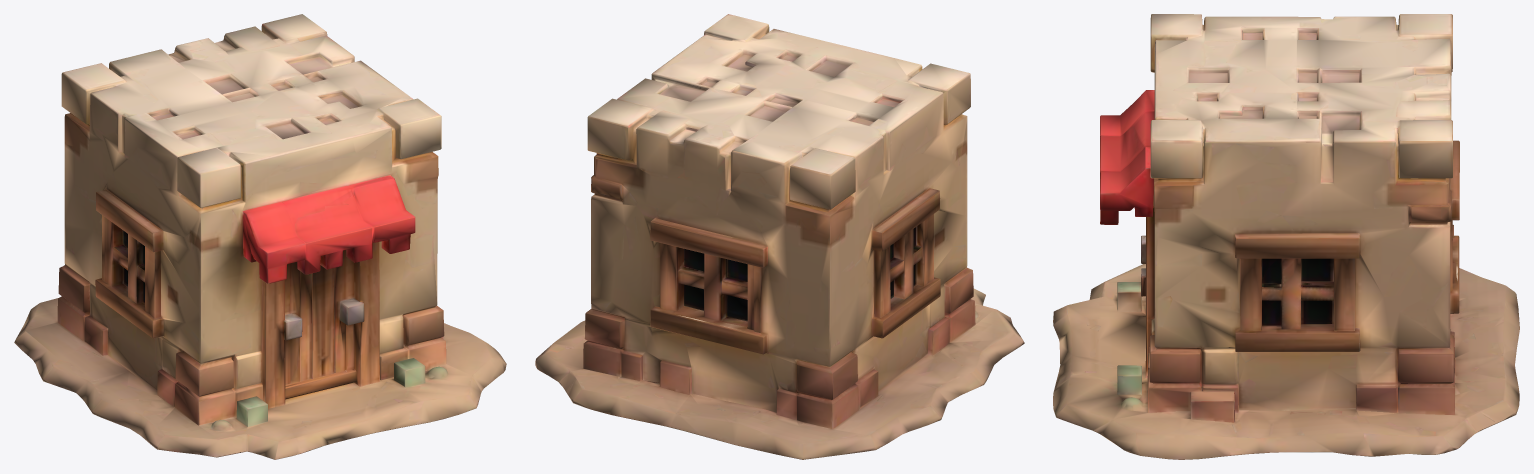
File: house_b.glb
3 renders of one model, left to right at view 1: azimuth 30°, elevation 25°; view 2: azimuth 150°, elevation 25°; view 3: azimuth 270°, elevation 25°, orthographic. The views are drawn at different scales.
Parts seen in each view (by area): view 1: node_0; view 2: node_0; view 3: node_0.
Part boxes in pixels (bbox=[...]): node_0: bbox=[14, 14, 506, 459]; node_0: bbox=[535, 14, 1024, 459]; node_0: bbox=[1053, 14, 1519, 459].
Bounding box in the file's own units: 0.8798 × 0.5897 × 0.8799.
1 material, 1 textured.
